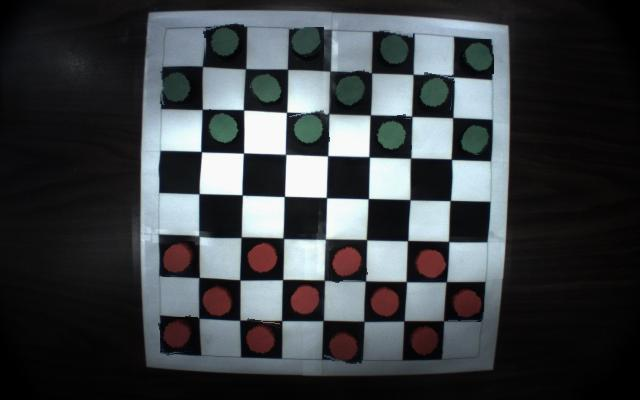g: (204, 24, 244, 62), (332, 71, 369, 110), (291, 110, 328, 148), (374, 116, 411, 154), (418, 74, 454, 112), (377, 30, 413, 66), (159, 67, 194, 104), (205, 110, 239, 145), (249, 71, 283, 105), (462, 40, 494, 74), (289, 27, 324, 58), (458, 124, 491, 155)
r: (160, 317, 198, 355), (329, 244, 366, 282), (243, 240, 280, 276), (326, 328, 363, 364), (244, 320, 280, 355), (449, 287, 484, 322), (411, 248, 447, 282), (288, 284, 324, 318), (201, 284, 236, 318), (162, 241, 195, 277), (408, 324, 442, 358), (369, 286, 403, 317)
